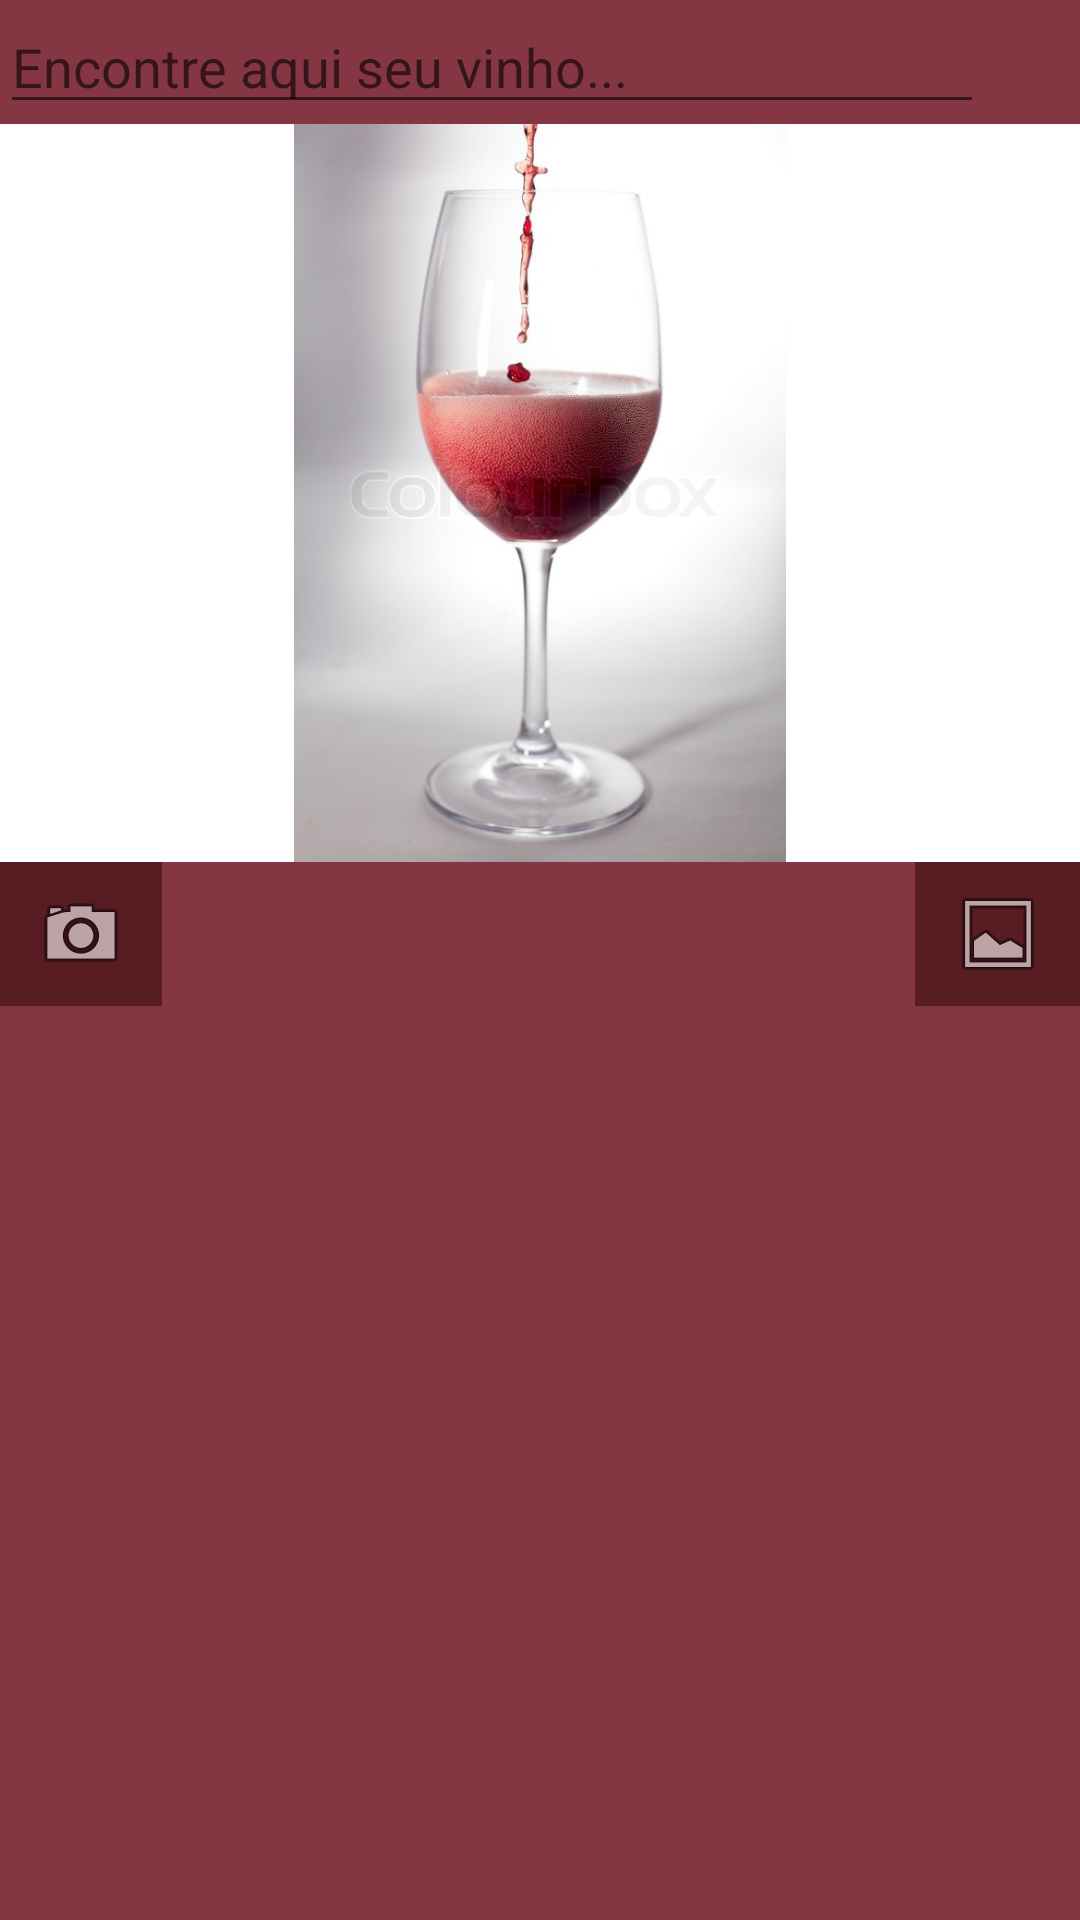

Icons on this 1080 × 1920 Android screen, each with its box as [x1, y1, x2, y2]:
camera: [0, 862, 162, 1006]
gallery: [915, 862, 1080, 1006]
